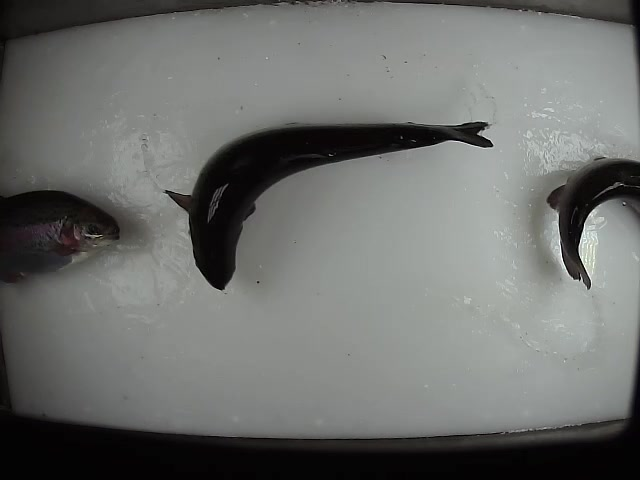fish: (161, 118, 494, 293), (545, 155, 640, 294), (1, 188, 122, 289)
